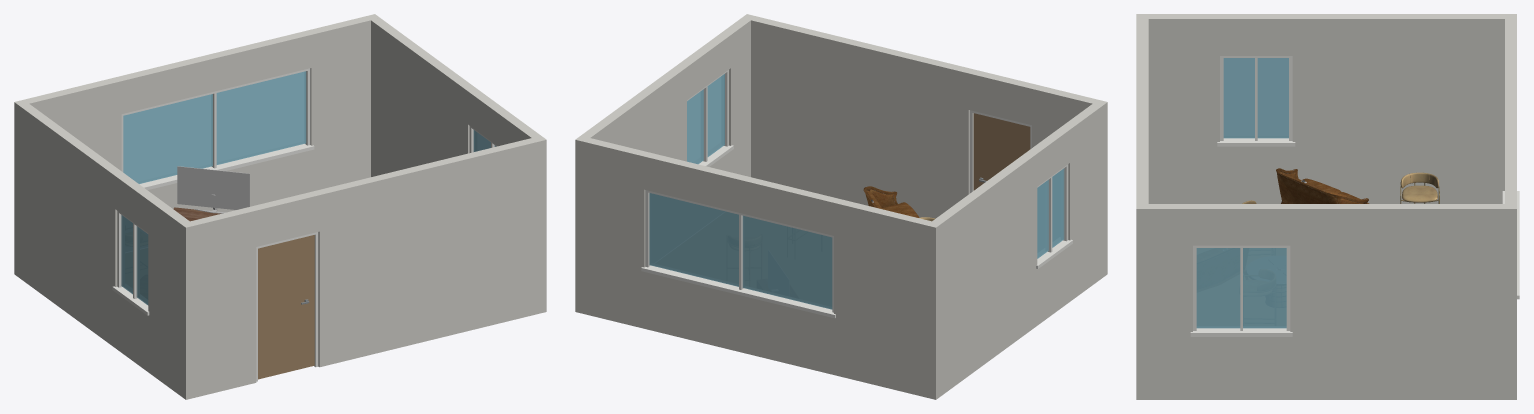
The model's file is layoutvlm.glb.
3 renders of one model, left to right at view 1: azimuth 30°, elevation 25°; view 2: azimuth 150°, elevation 25°; view 3: azimuth 270°, elevation 25°, orthographic. The views are drawn at different scales.
Visible parts, largest first — view 1: wall|scenesmith_068__R00|0, wall|scenesmith_068__R00|2, wall|scenesmith_068__R00|1, wall|scenesmith_068__R00|3, wall|scenesmith_068__R00|1 Window 0 | glazing, wall|scenesmith_068__R00|0 Door 0 | wood leaf, scenesmith_068__R00_tv-0, wall|scenesmith_068__R00|1 Window 0 | jamb, wall|scenesmith_068__R00|2 Window 0 | glazing, wall|scenesmith_068__R00|2 Window 0 | jamb, wall|scenesmith_068__R00|0 Door 0 | jamb; view 2: wall|scenesmith_068__R00|1, wall|scenesmith_068__R00|0, wall|scenesmith_068__R00|2, wall|scenesmith_068__R00|1 Window 0 | glazing, wall|scenesmith_068__R00|3, wall|scenesmith_068__R00|1 Window 0 | jamb, wall|scenesmith_068__R00|0 Door 0 | wood leaf, wall|scenesmith_068__R00|3 Window 0 | glazing, wall|scenesmith_068__R00|2 Window 0 | glazing, wall|scenesmith_068__R00|2 Window 0 | jamb, wall|scenesmith_068__R00|3 Window 0 | jamb, raw_model.001 (+1 smaller); view 3: wall|scenesmith_068__R00|3, wall|scenesmith_068__R00|2, wall|scenesmith_068__R00|3 Window 0 | glazing, wall|scenesmith_068__R00|2 Window 0 | glazing, wall|scenesmith_068__R00|0, wall|scenesmith_068__R00|1, wall|scenesmith_068__R00|3 Window 0 | jamb, raw_model.001, wall|scenesmith_068__R00|2 Window 0 | jamb, raw_model.005, wall|scenesmith_068__R00|1 Window 0 | jamb.
Boxes of the visible parts, <box> form: wall|scenesmith_068__R00|0: <box>180,138,537,399</box>; wall|scenesmith_068__R00|2: <box>14,99,195,399</box>; wall|scenesmith_068__R00|1: <box>14,14,379,277</box>; wall|scenesmith_068__R00|3: <box>371,18,546,313</box>; wall|scenesmith_068__R00|1 Window 0 | glazing: <box>123,71,306,183</box>; wall|scenesmith_068__R00|0 Door 0 | wood leaf: <box>258,235,314,379</box>; scenesmith_068__R00_tv-0: <box>177,166,249,213</box>; wall|scenesmith_068__R00|1 Window 0 | jamb: <box>121,68,314,189</box>; wall|scenesmith_068__R00|2 Window 0 | glazing: <box>121,215,148,305</box>; wall|scenesmith_068__R00|2 Window 0 | jamb: <box>112,211,149,315</box>; wall|scenesmith_068__R00|0 Door 0 | jamb: <box>256,232,318,381</box>; wall|scenesmith_068__R00|1: <box>575,136,941,399</box>; wall|scenesmith_068__R00|0: <box>751,16,1107,277</box>; wall|scenesmith_068__R00|2: <box>927,99,1107,395</box>; wall|scenesmith_068__R00|1 Window 0 | glazing: <box>649,193,832,309</box>; wall|scenesmith_068__R00|3: <box>581,14,755,176</box>; wall|scenesmith_068__R00|1 Window 0 | jamb: <box>641,190,835,318</box>; wall|scenesmith_068__R00|0 Door 0 | wood leaf: <box>973,113,1030,190</box>; wall|scenesmith_068__R00|3 Window 0 | glazing: <box>687,74,724,164</box>; wall|scenesmith_068__R00|2 Window 0 | glazing: <box>1037,168,1064,258</box>; wall|scenesmith_068__R00|2 Window 0 | jamb: <box>1036,164,1072,268</box>; wall|scenesmith_068__R00|3 Window 0 | jamb: <box>687,70,733,166</box>; raw_model.001: <box>863,186,919,217</box>; wall|scenesmith_068__R00|3: <box>1136,204,1504,399</box>; wall|scenesmith_068__R00|2: <box>1136,14,1516,203</box>; wall|scenesmith_068__R00|3 Window 0 | glazing: <box>1196,248,1286,328</box>; wall|scenesmith_068__R00|2 Window 0 | glazing: <box>1223,58,1288,138</box>; wall|scenesmith_068__R00|0: <box>1136,19,1148,399</box>; wall|scenesmith_068__R00|1: <box>1505,19,1516,399</box>; wall|scenesmith_068__R00|3 Window 0 | jamb: <box>1190,245,1292,336</box>; raw_model.001: <box>1276,168,1369,203</box>; wall|scenesmith_068__R00|2 Window 0 | jamb: <box>1217,56,1295,146</box>; raw_model.005: <box>1242,172,1439,203</box>; wall|scenesmith_068__R00|1 Window 0 | jamb: <box>1502,191,1519,299</box>.
Bounding box in the file's own units: 5.76 × 2.61 × 4.73.
11 materials, 5 textured.
